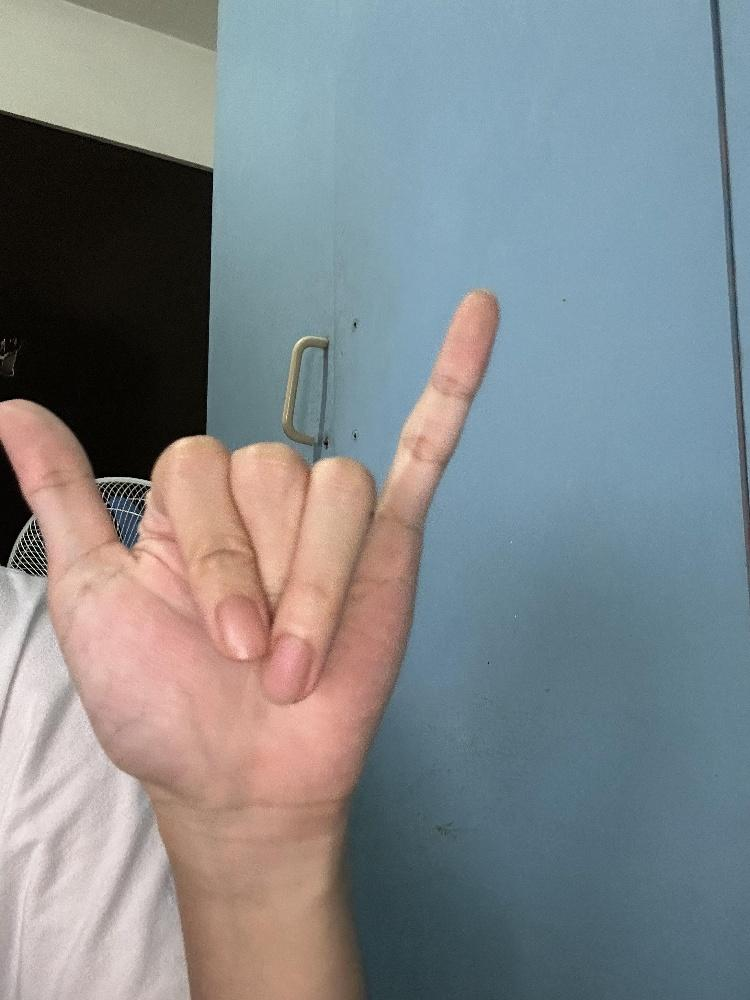y: (0, 285, 501, 838)
